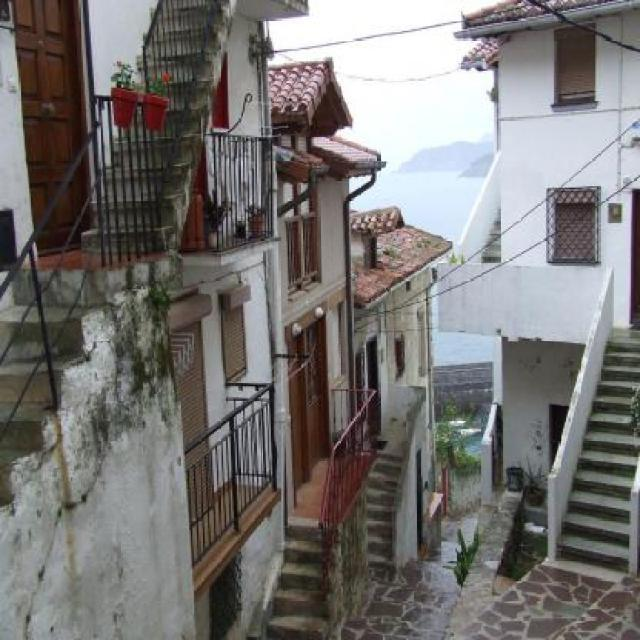stair: (80, 0, 237, 252), (0, 264, 109, 516), (554, 334, 640, 576), (266, 521, 340, 640), (368, 450, 406, 568), (480, 206, 502, 266)
